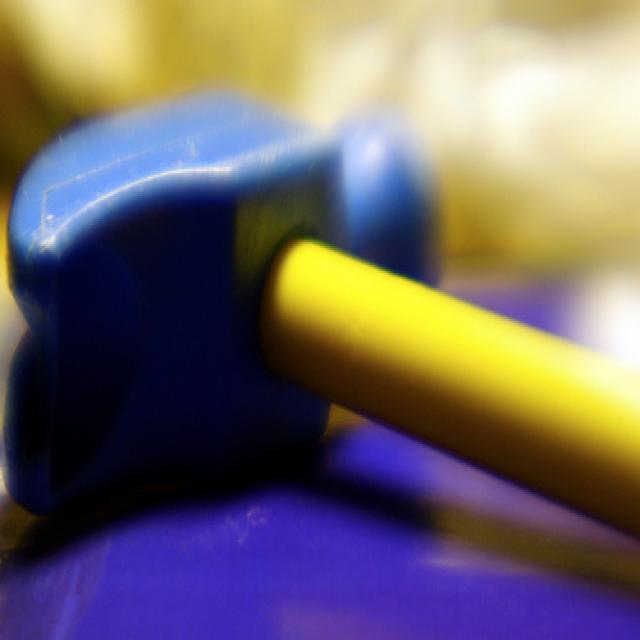hammer: (8, 96, 635, 565)
